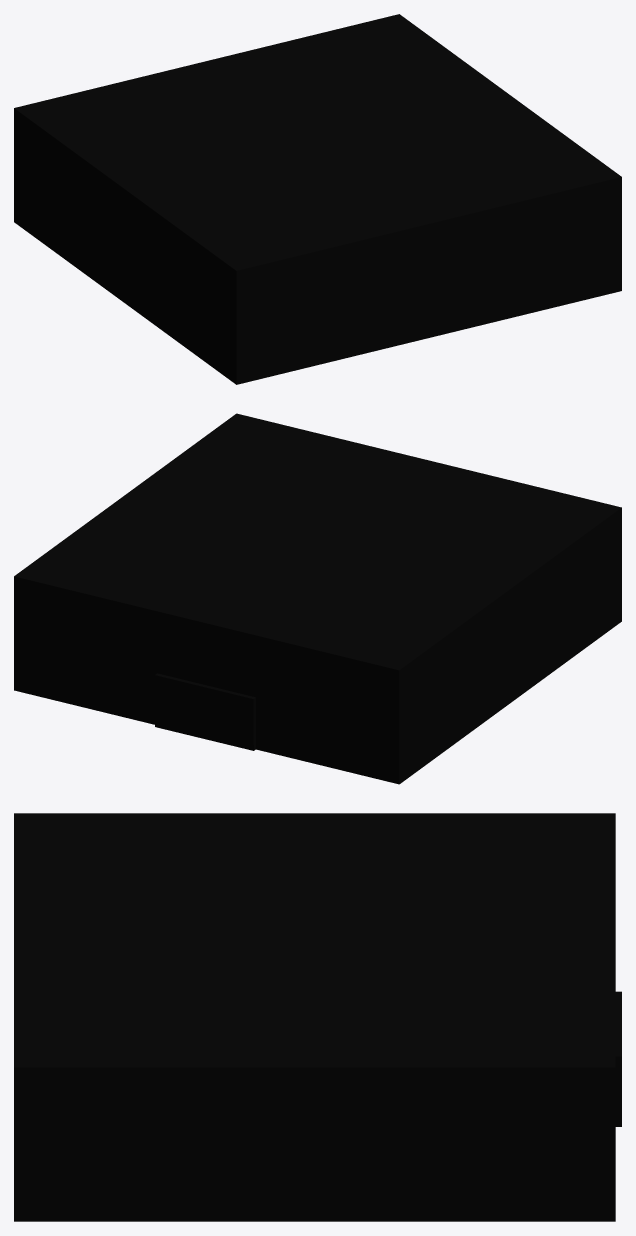
The model's file is Itr_Trashcan1_Cap_03.FBX.
3 renders of one model, top to bottom at view 1: azimuth 30°, elevation 25°; view 2: azimuth 150°, elevation 25°; view 3: azimuth 270°, elevation 25°, orthographic. The views are drawn at different scales.
Parts seen in each view (by area): view 1: Itr_Trashcan1_Cap_03; view 2: Itr_Trashcan1_Cap_03; view 3: Itr_Trashcan1_Cap_03.
Boxes of the visible parts, x1,y1,x2,y2 form: Itr_Trashcan1_Cap_03: (14,14,621,384); Itr_Trashcan1_Cap_03: (14,413,621,784); Itr_Trashcan1_Cap_03: (14,813,621,1221).
Size of the model in its own units: 14.85 by 4.2 by 15.01.
